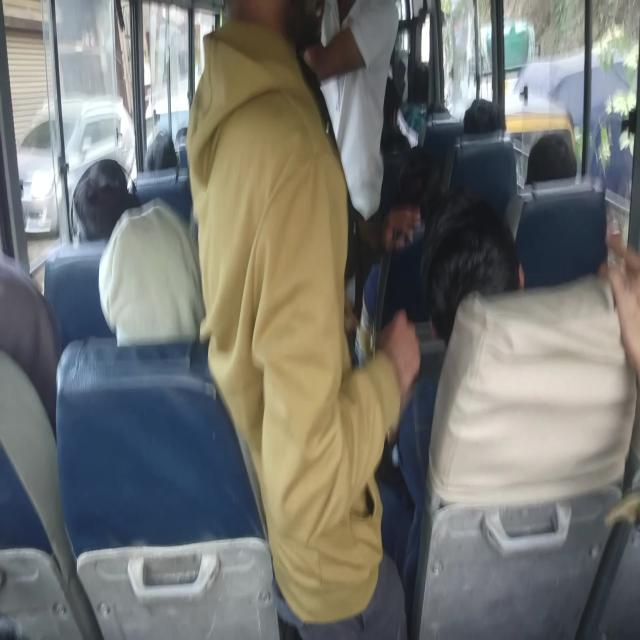person: (185, 1, 422, 637), (419, 190, 638, 508), (395, 188, 525, 608), (302, 0, 400, 223), (420, 188, 524, 346), (98, 196, 206, 346), (70, 157, 140, 242), (601, 228, 639, 379), (525, 131, 577, 185)
